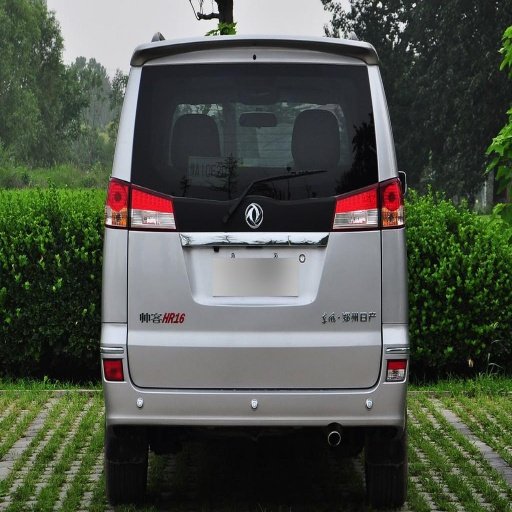back_bumper: (103, 229, 402, 428)
trunk: (106, 185, 381, 388)
